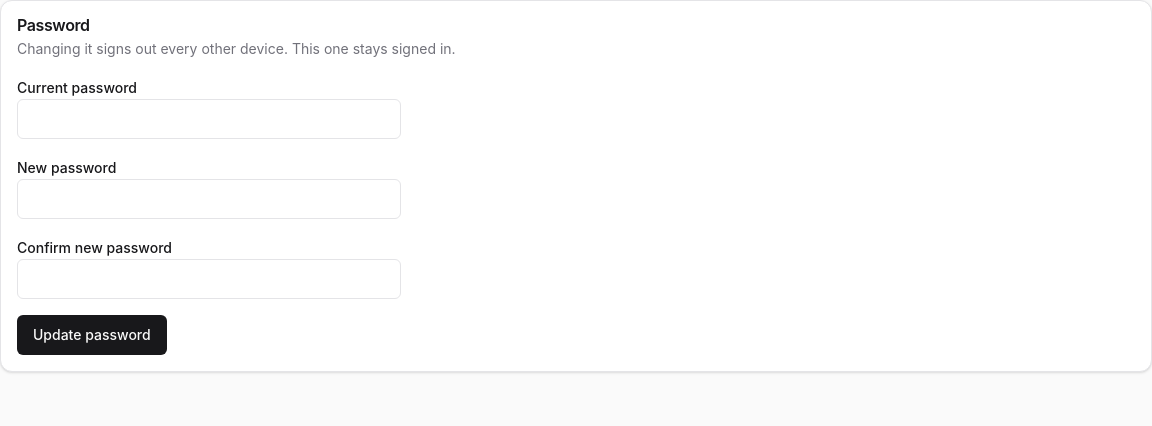
Test: ChangePasswordCard › will not submit when the two new passwords differ
The image size is (1152, 426).
Type "current-password" into the password field labelled "Current password".
click(209, 119); type("current-password")  # box [17,99,401,139]
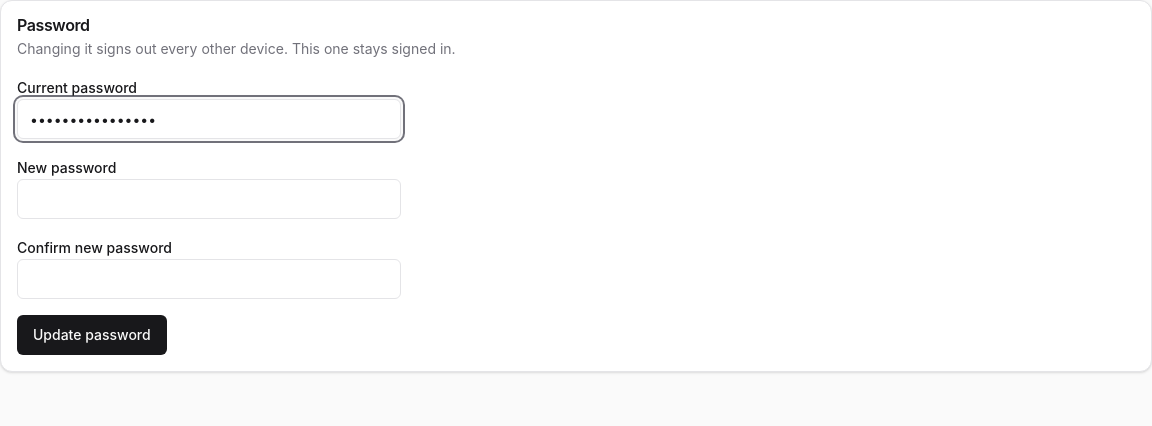
Type "new-password-1" into the password field labelled "New password".
click(209, 199); type("new-password-1")  # box [17,179,401,219]
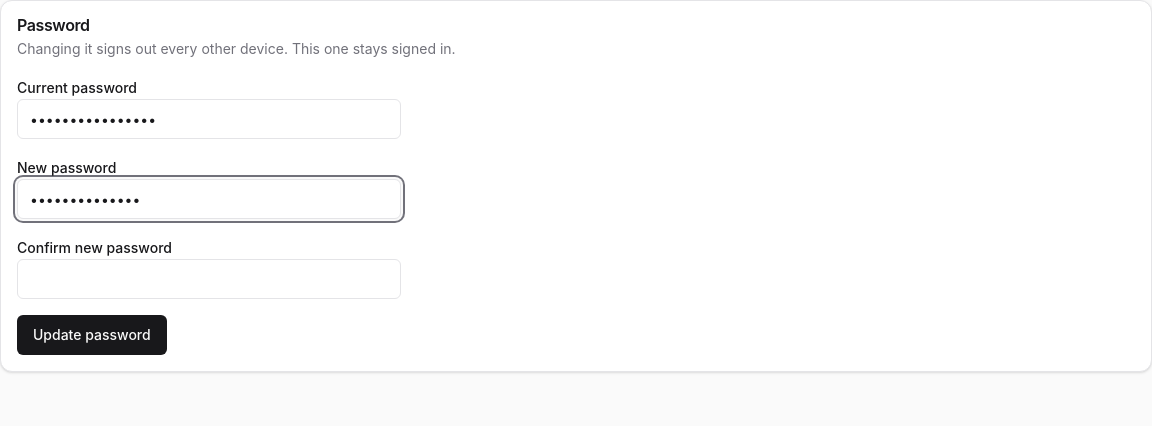
Type "new-password-2" into the password field labelled "Confirm new password".
click(209, 279); type("new-password-2")  # box [17,259,401,299]
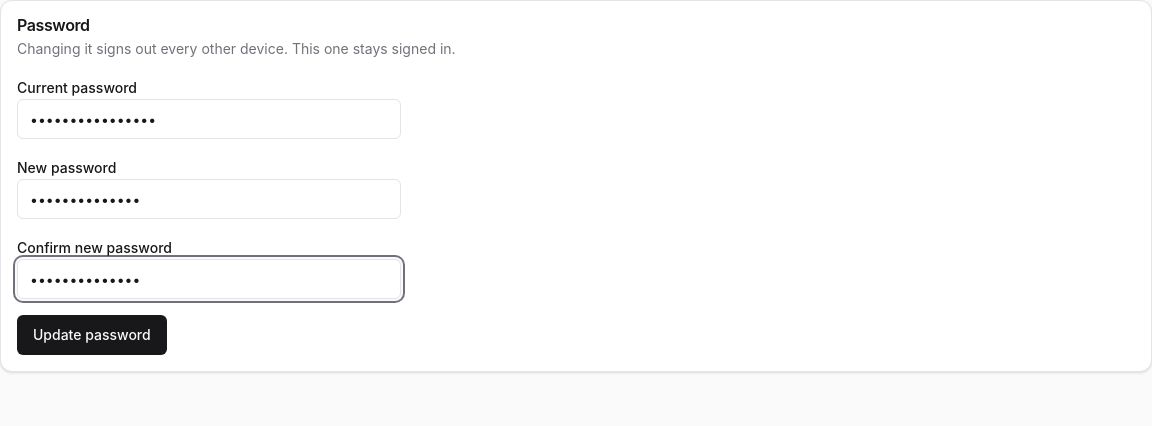
Click the button "Update password".
click(92, 335)  # box [17,315,167,355]
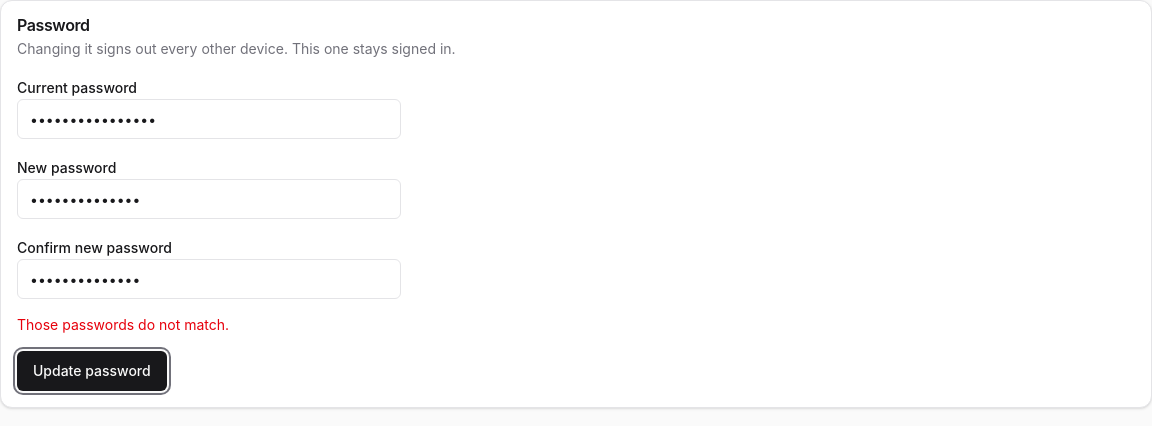
Result: the message shows "do not match" at [17,316,229,333]
